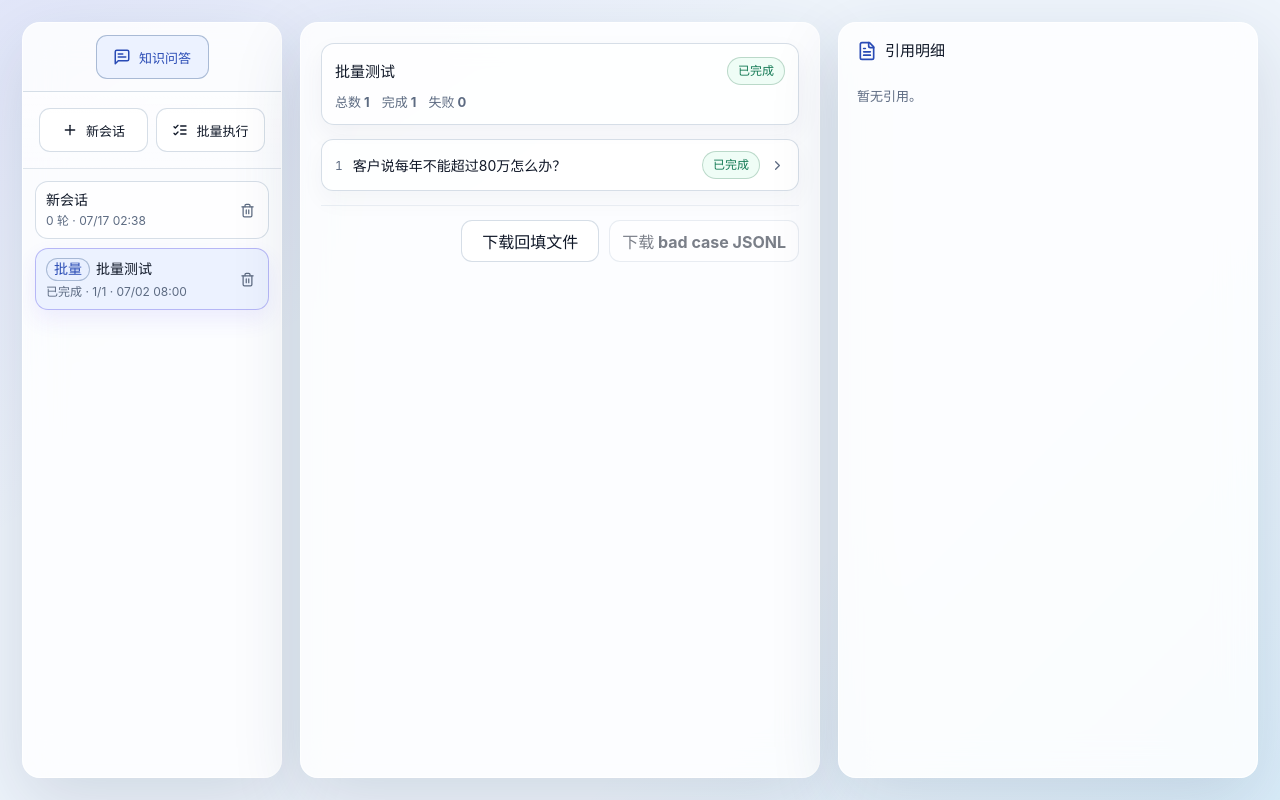
Test: 批量行反馈只调批量单入口并本地更新 bad_case
Click the button "1 客户说每年不能超过80万怎么办？ 已完成" at (560, 165), box [321,139,799,191]
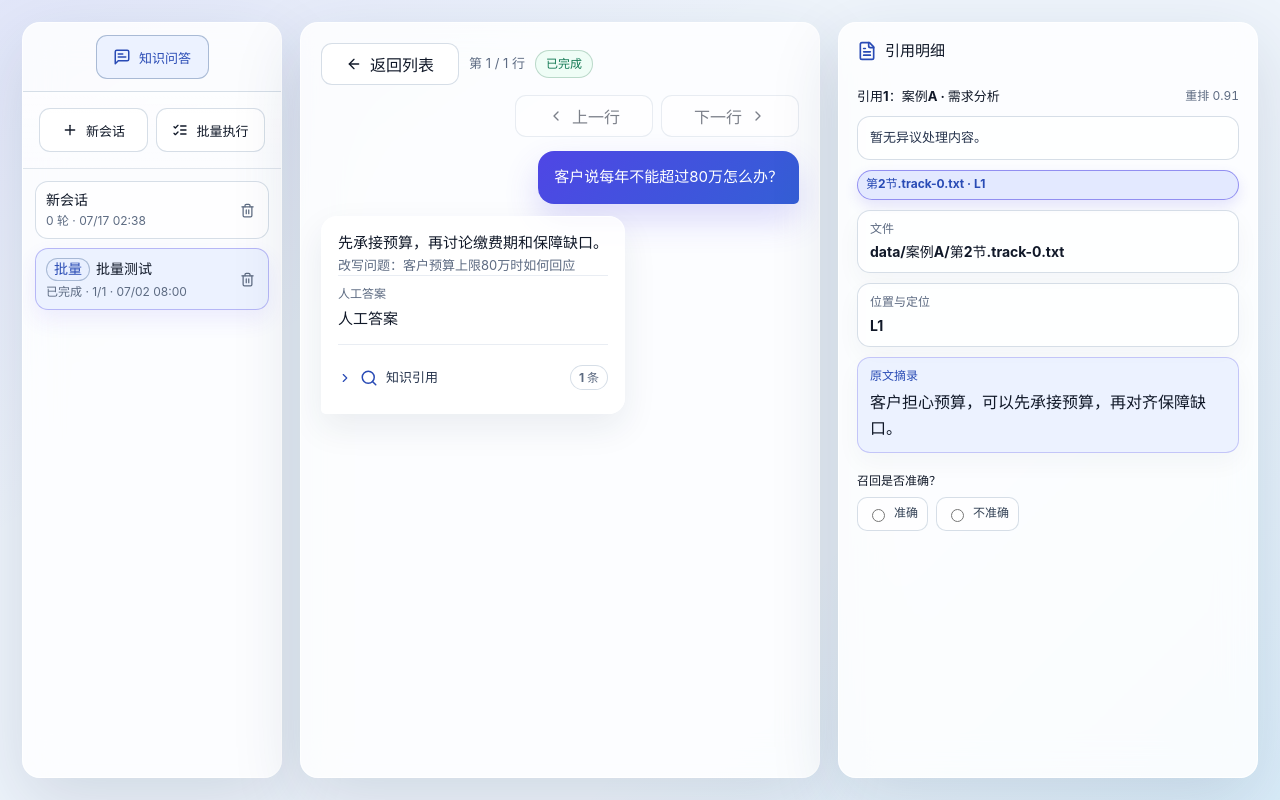
Now the text "先承接预算，再讨论缴费期和保障缺口。" is shown, box [338,231,608,256]
Click the radio button with aria-label "引用1召回不准确" at (958, 515), box [951,508,964,522]
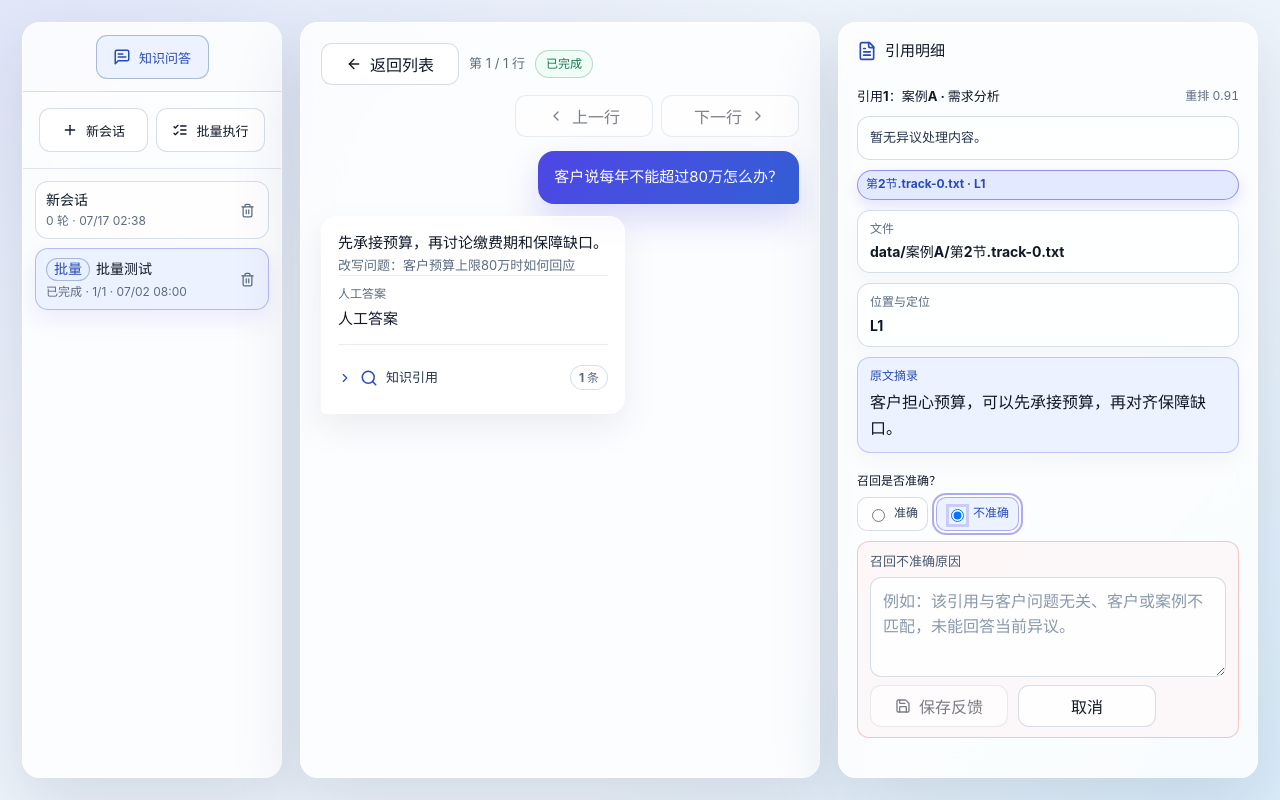
Type "该证据与客户问题无关。" into the text box labelled "召回不准确原因" at (1048, 627), box [870,577,1226,678]
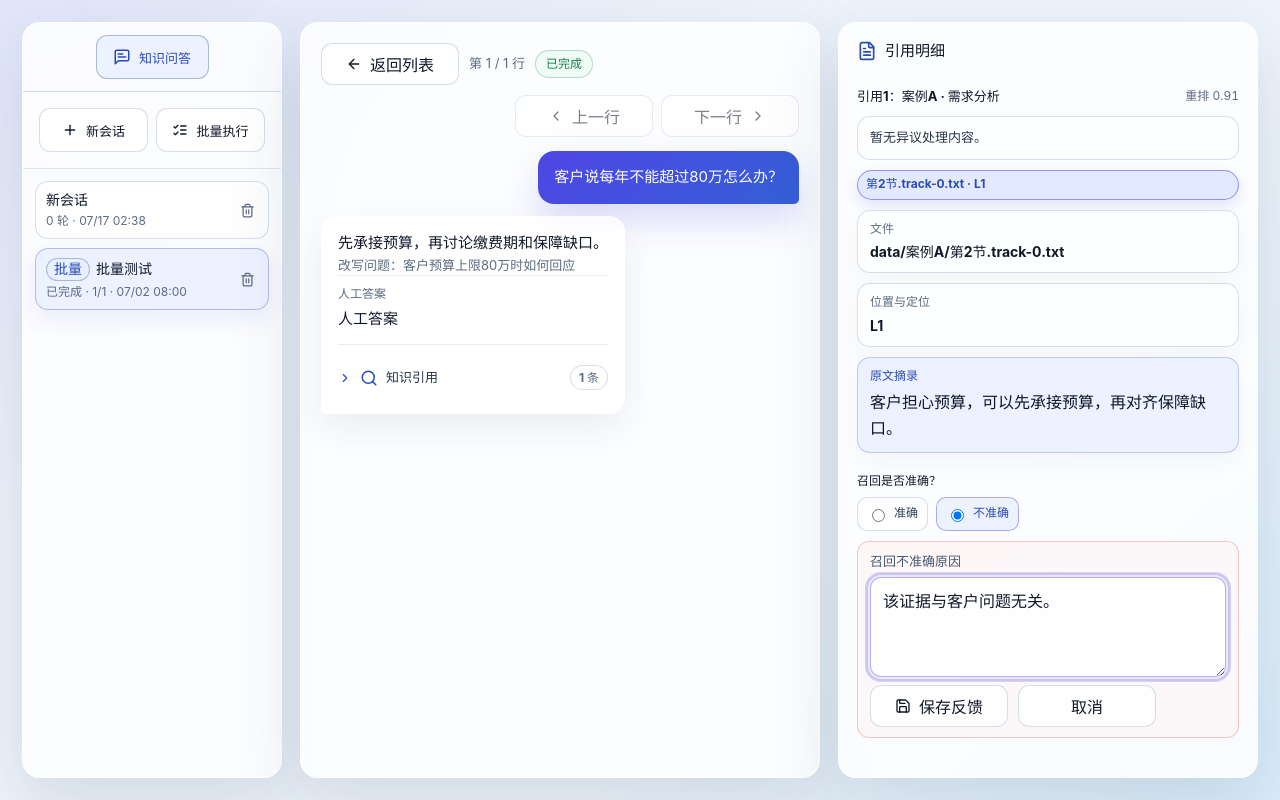
Click the button "保存反馈" at (939, 706), box [870,686,1008,728]
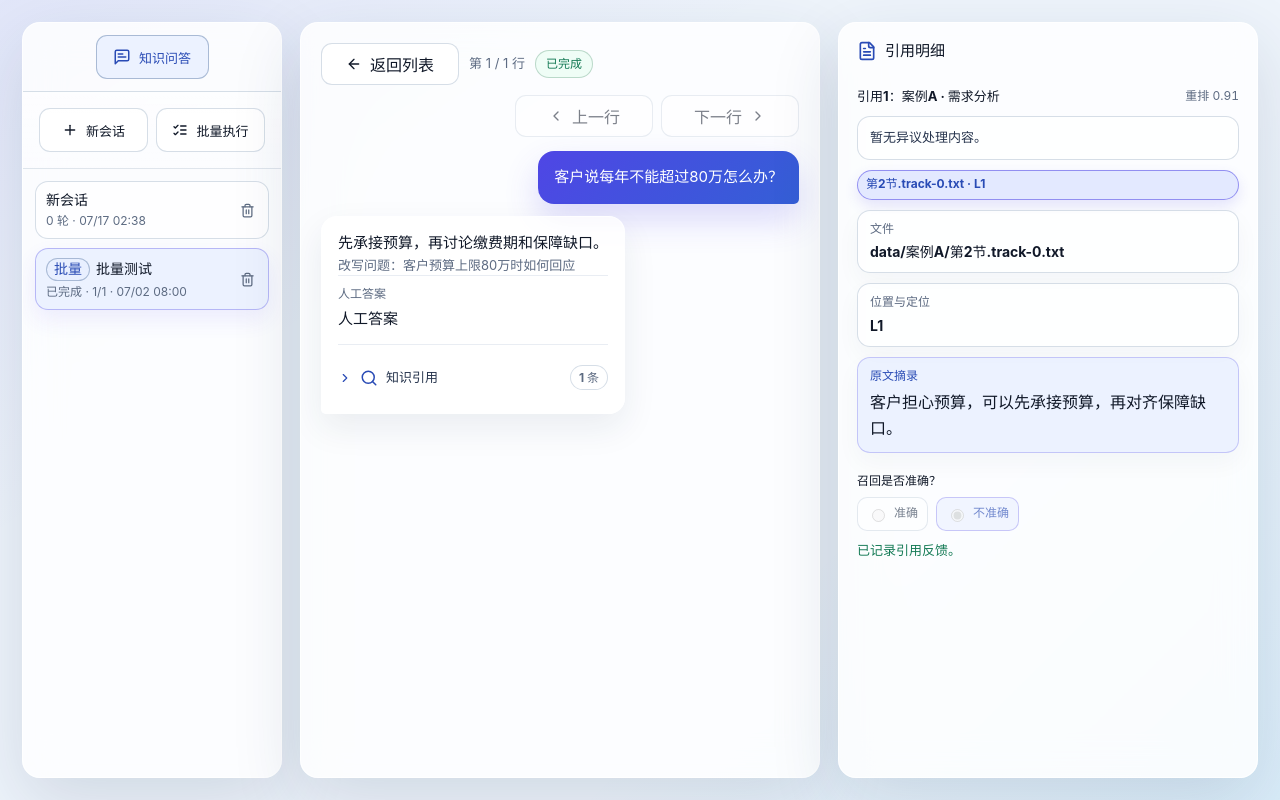
Now the text "已记录引用反馈。" is shown, box [857,542,961,558]
Note: 本地已回写 bad_case：返回列表后行带“已反馈”徽标，导出按钮无需等待下一次轮询即可用。
Click the button "返回列表" at (390, 64), box [321,43,459,85]
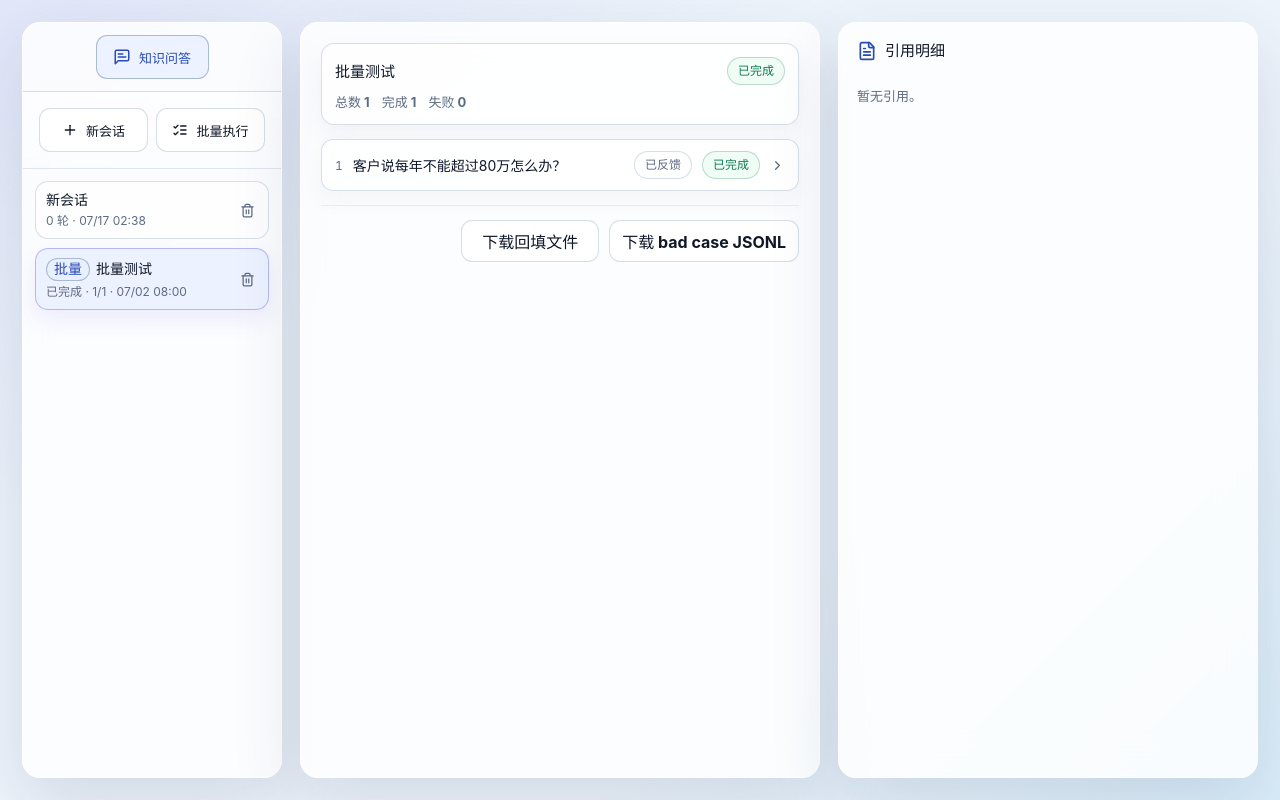
Now the text "已反馈" is shown, box [634,151,692,179]
Now the button "下载 bad case JSONL" is enabled, box [609,220,799,262]
